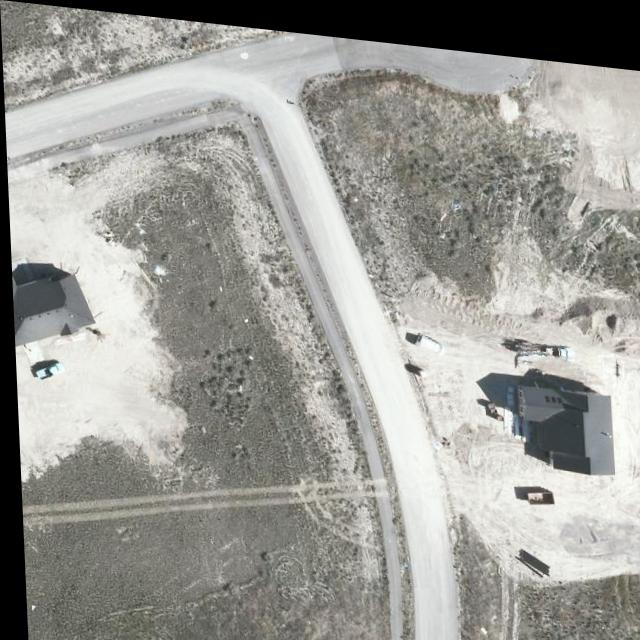vehicle: (512, 326, 574, 354), (31, 360, 64, 384), (412, 325, 445, 347)
